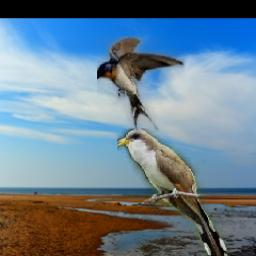Cuckoo: (117, 130, 230, 256)
Swallow: (97, 37, 185, 134)
